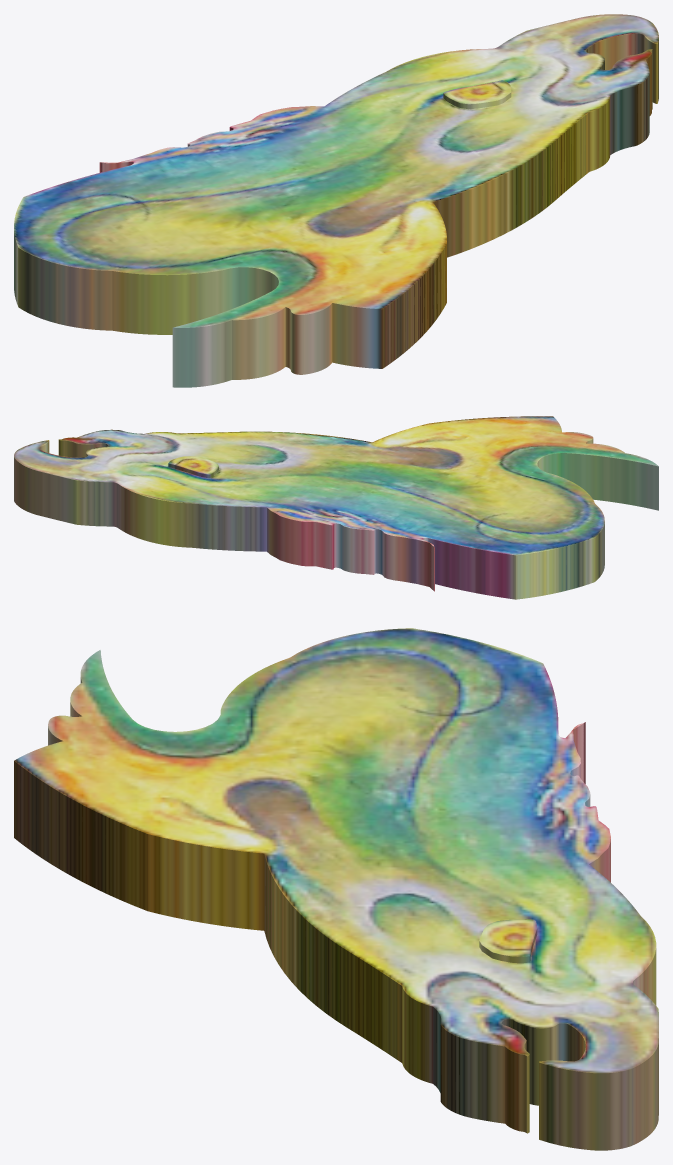
File: alegoria 3.dae
3 renders of one model, top to bottom at view 1: azimuth 30°, elevation 25°; view 2: azimuth 150°, elevation 25°; view 3: azimuth 270°, elevation 25°, orthographic. The views are drawn at different scales.
Visible parts, largest first — view 1: SketchUp (×2); view 2: SketchUp (×3); view 3: SketchUp (×3).
Boxes of the visible parts, <box> form: SketchUp (×2): <box>14,14,658,387</box>; SketchUp (×3): <box>14,416,658,599</box>; SketchUp (×3): <box>14,628,658,1150</box>.
Bounding box in the file's own units: 37.85 × 23.17 × 3.31.
Materials: 1 (1 with a texture image).
